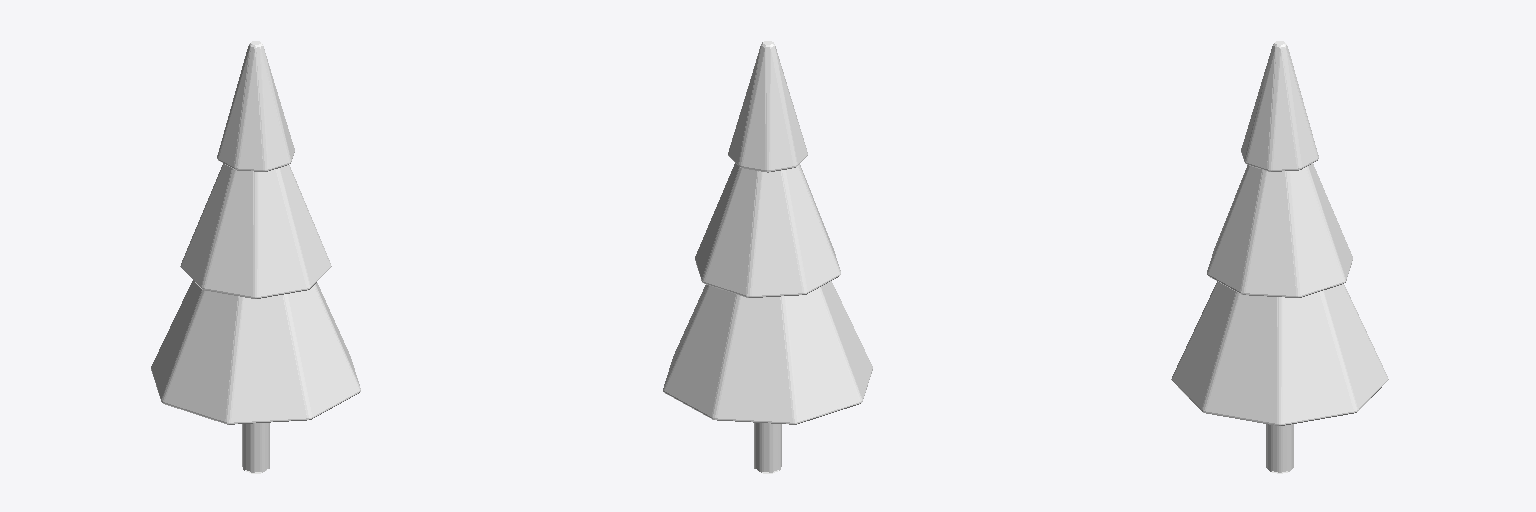
File: Tree.obj
The picture shows the model from 3 angles: view 1: azimuth 30°, elevation 25°; view 2: azimuth 150°, elevation 25°; view 3: azimuth 270°, elevation 25°; orthographic projection.
Parts seen in each view (by area): view 1: Branches_1, Branches_2, Branches_3, Trunk; view 2: Branches_1, Branches_2, Branches_3, Trunk; view 3: Branches_1, Branches_2, Branches_3, Trunk.
Part boxes in pixels (left/top/right/bottom): Branches_1: left=151, top=280, right=360, bottom=424; Branches_2: left=180, top=163, right=331, bottom=298; Branches_3: left=217, top=41, right=294, bottom=171; Trunk: left=242, top=423, right=269, bottom=473; Branches_1: left=663, top=281, right=872, bottom=424; Branches_2: left=695, top=163, right=840, bottom=297; Branches_3: left=728, top=41, right=807, bottom=172; Trunk: left=754, top=423, right=781, bottom=473; Branches_1: left=1171, top=281, right=1388, bottom=425; Branches_2: left=1207, top=163, right=1352, bottom=297; Branches_3: left=1241, top=41, right=1318, bottom=171; Trunk: left=1266, top=424, right=1293, bottom=473.
Bounding box in the file's own units: 3.86 × 8.35 × 3.86.